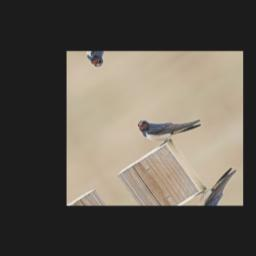Swallow: (134, 84, 221, 159)
